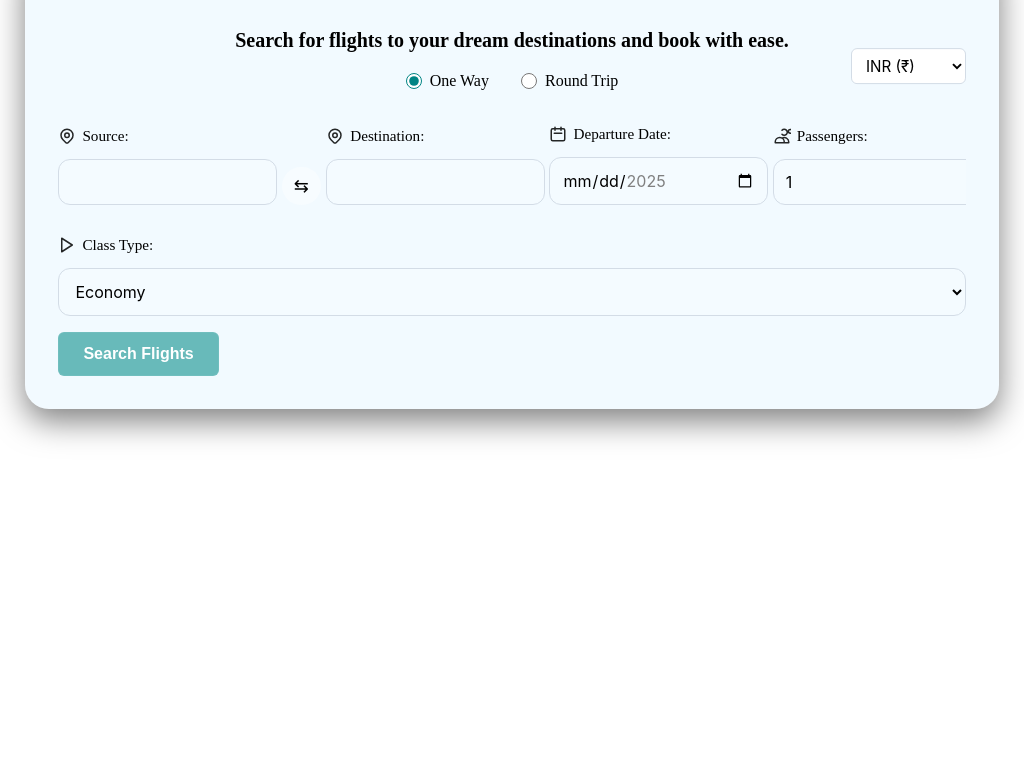
Scenario: Test for FlightSearchForm /> › should render the flights available on clicking previous button
The width and height of the screenshot is (1024, 768).
In the field labelled "Source:": point(168, 182) left=58, top=159, right=277, bottom=205, type "Mumbai"
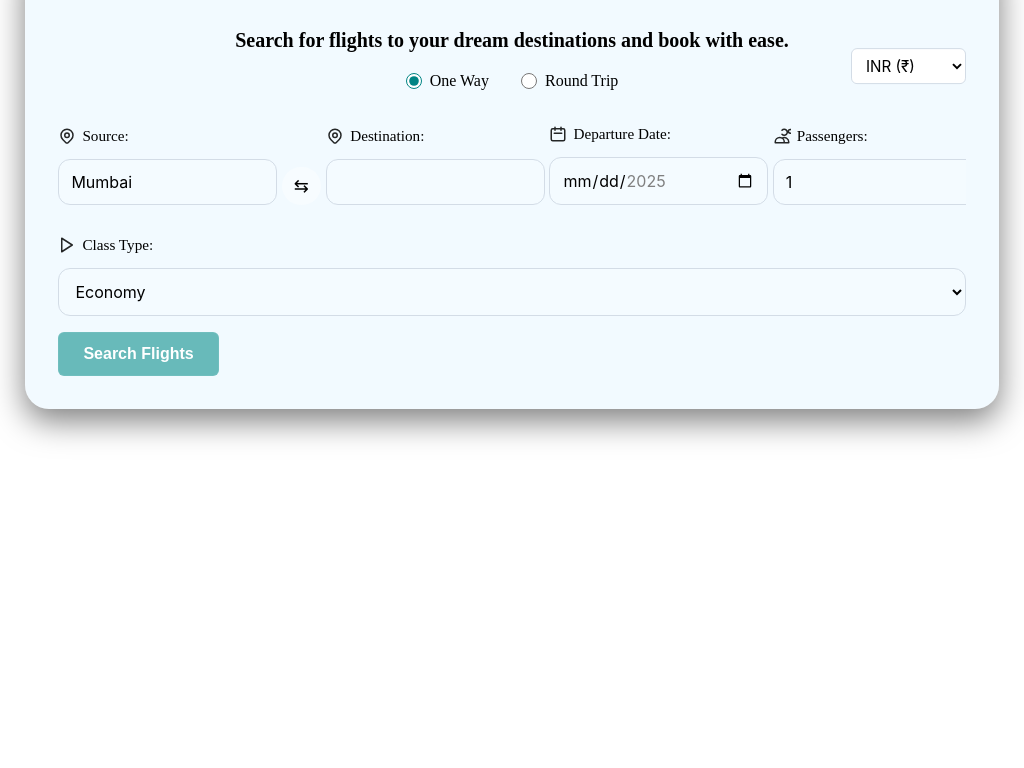
In the field labelled "Destination:": point(436, 182) left=326, top=159, right=545, bottom=205, type "Delhi"
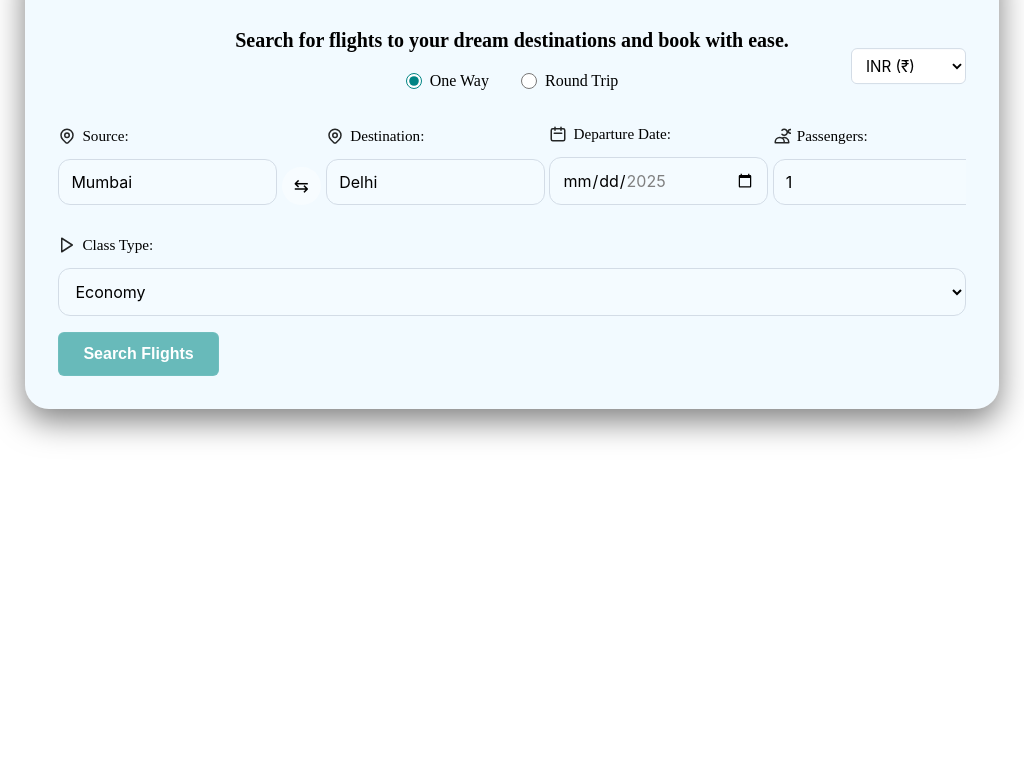
In the date field labelled "Departure Date:": point(659, 181) left=550, top=157, right=768, bottom=205, type "2025-08-02"
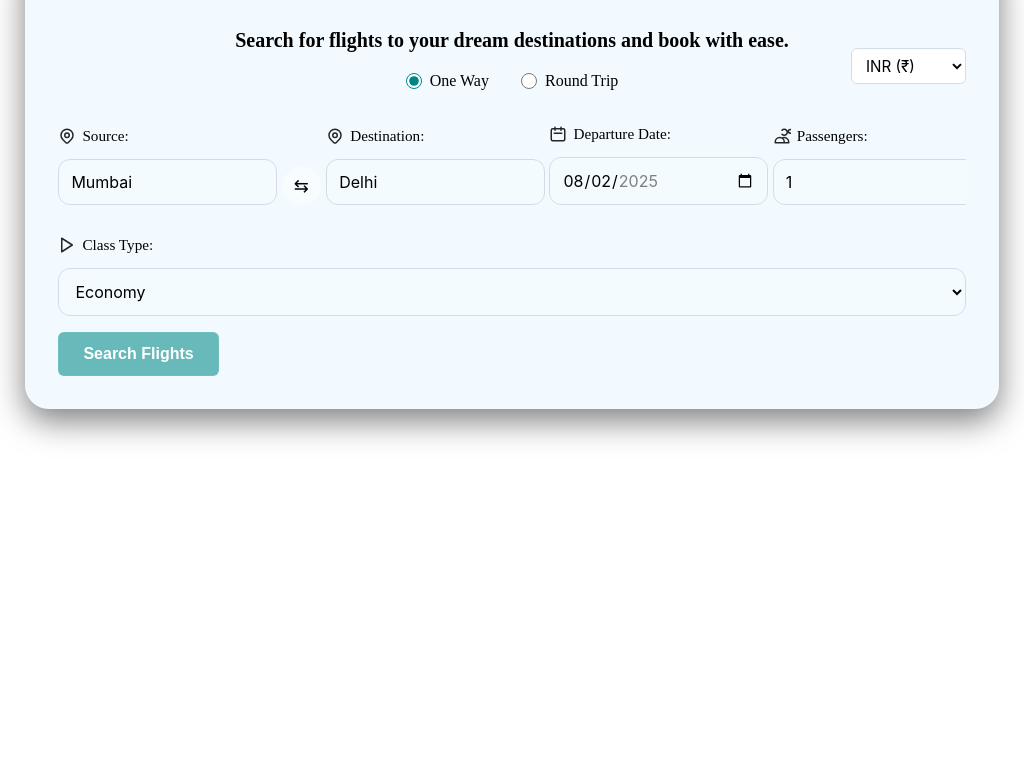
Submit the form from the button "Search Flights", box left=58, top=332, right=219, bottom=376
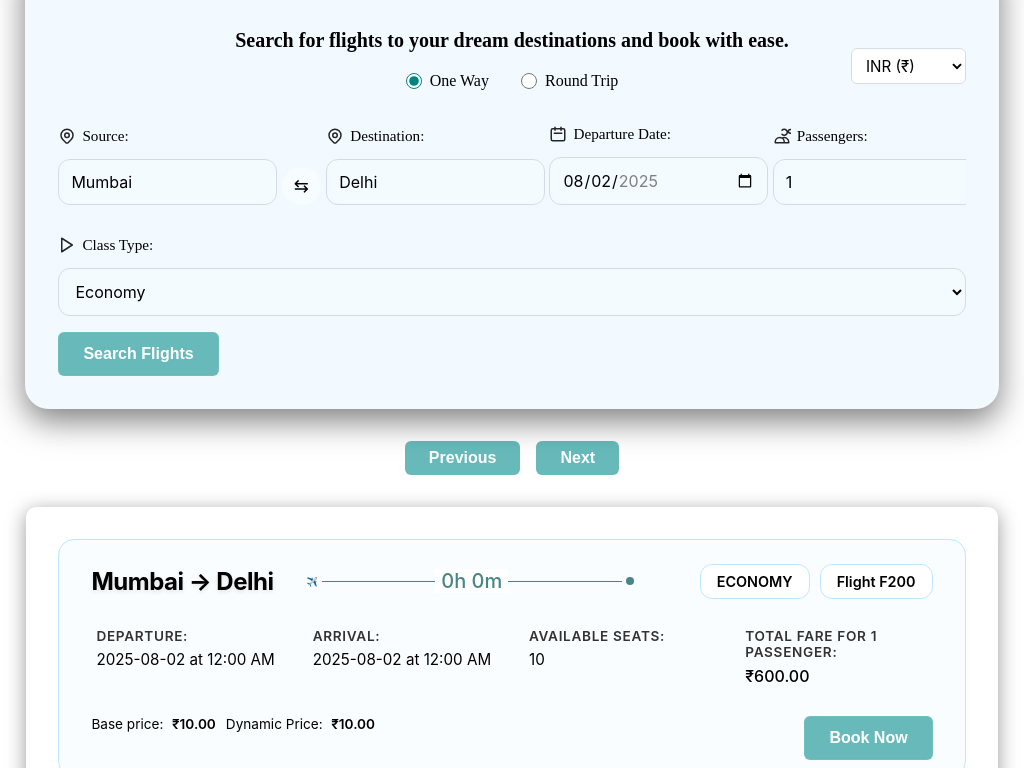
Click the button "Previous": point(463, 458) left=405, top=441, right=520, bottom=475
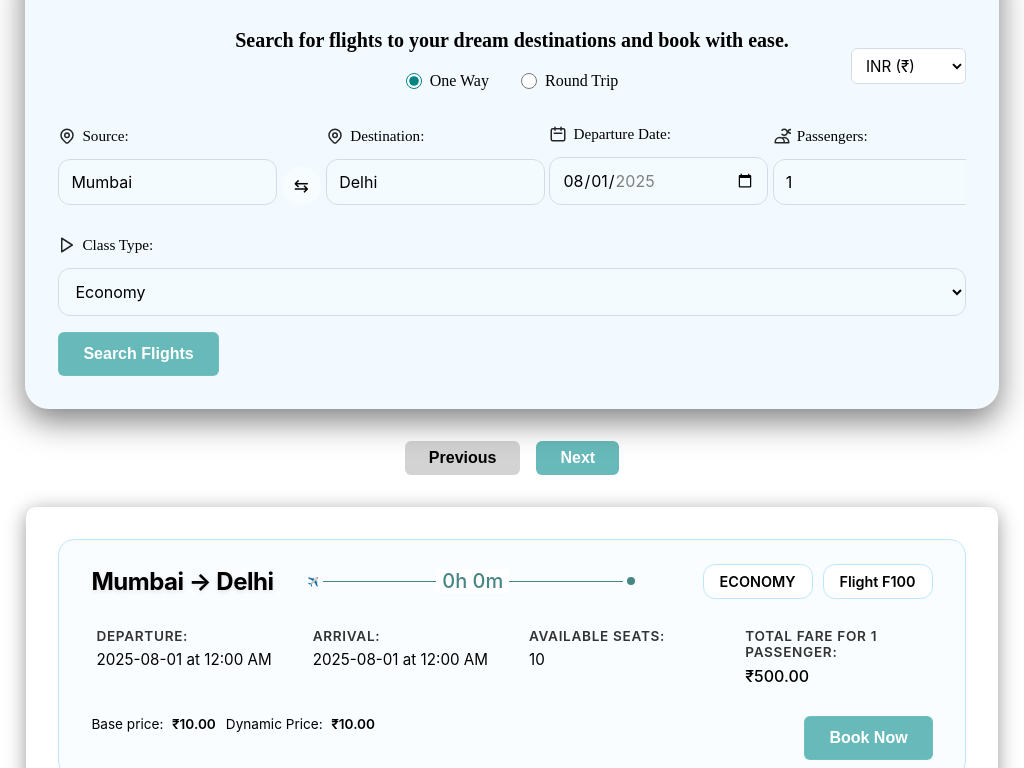
Expected: the text "Flight F100" is shown, left=822, top=564, right=933, bottom=599
